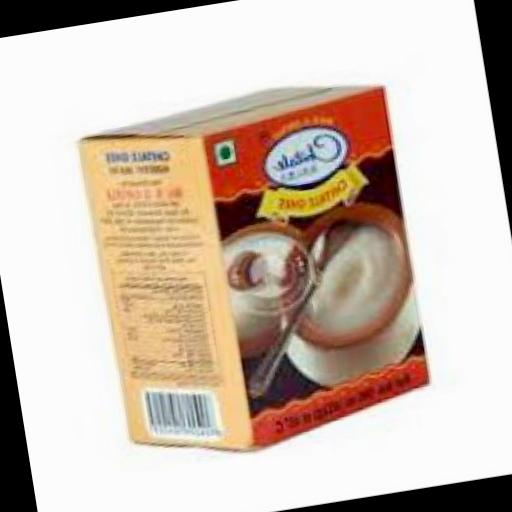cardboard: (82, 70, 439, 468)
